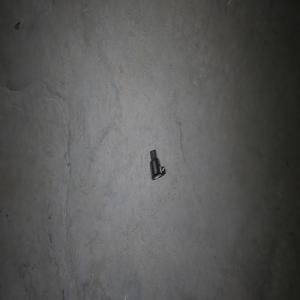MetalPart: (149, 148, 165, 180)
